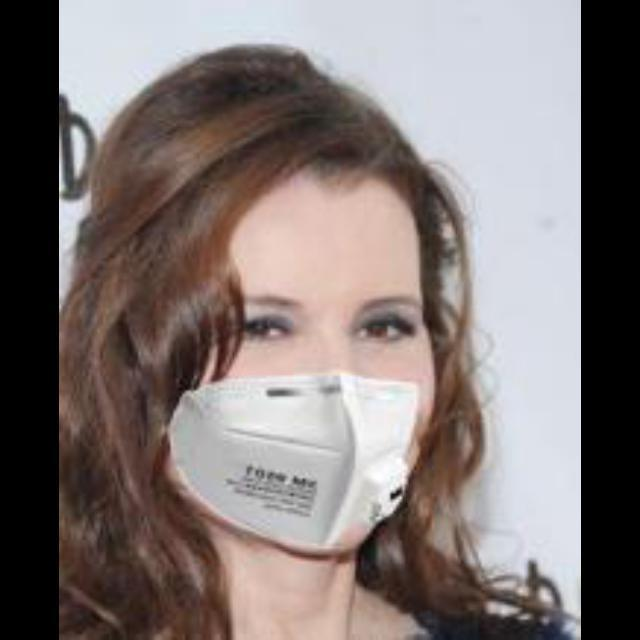suspicion: (133, 23, 444, 589)
